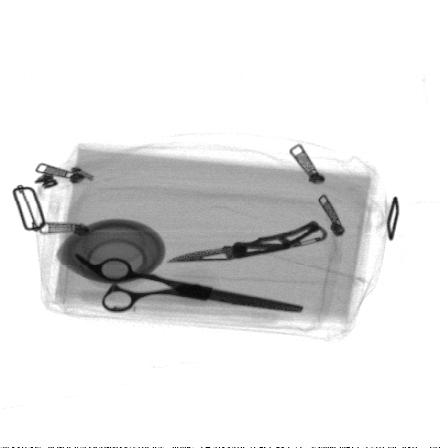Knife: (165, 219, 331, 262)
Scissors: (73, 253, 303, 314)
